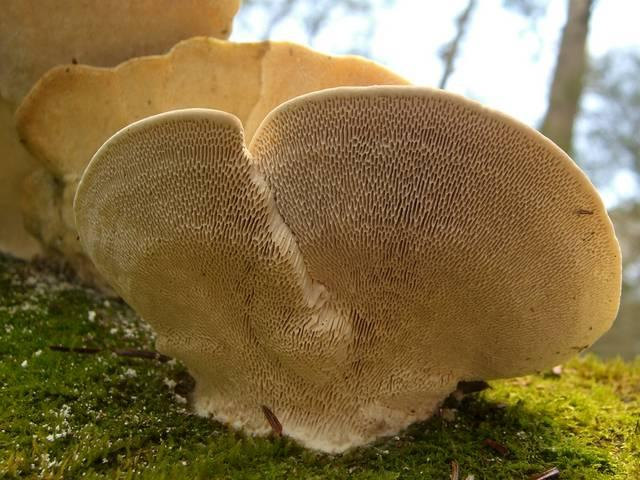poisonous_mushroom: (70, 82, 623, 456)
